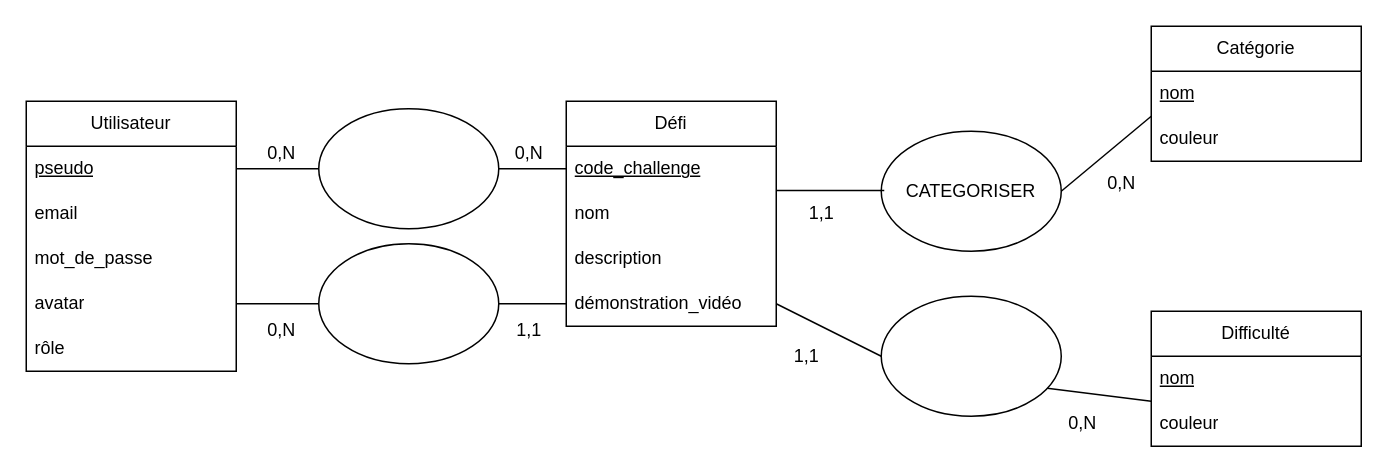
Some shapes in this 1388 by 473 pixel diagram are drawn without their labels. The centre of each missing label's shape, as x and y in pixels:
CRÉER: point (408, 303)
ETRE ASSIGNÉ À: point (970, 355)
PARTICIPER (preuve vidéo): point (408, 168)
